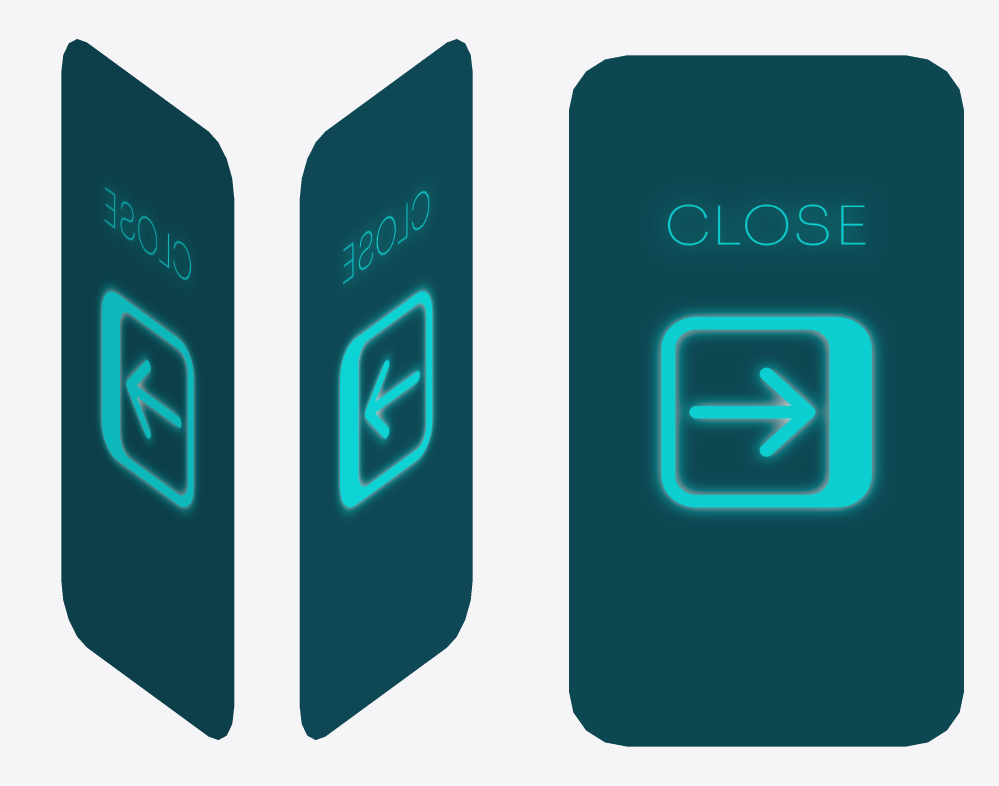
File: Courtines_Button_close_optimized.glb
The picture shows the model from 3 angles, left to right: view 1: azimuth 30°, elevation 25°; view 2: azimuth 150°, elevation 25°; view 3: azimuth 270°, elevation 25°; orthographic projection. The views are drawn at different scales.
Visible parts, largest first — view 1: Courtines_Button.001; view 2: Courtines_Button.001; view 3: Courtines_Button.001.
Part boxes in pixels (x1,y1,x2,y2): Courtines_Button.001: [61, 39, 234, 739]; Courtines_Button.001: [299, 39, 472, 739]; Courtines_Button.001: [569, 55, 963, 746].
Bounding box in the file's own units: 0.0332 × 0.4232 × 0.2288.
Materials: 2 (1 with a texture image).
